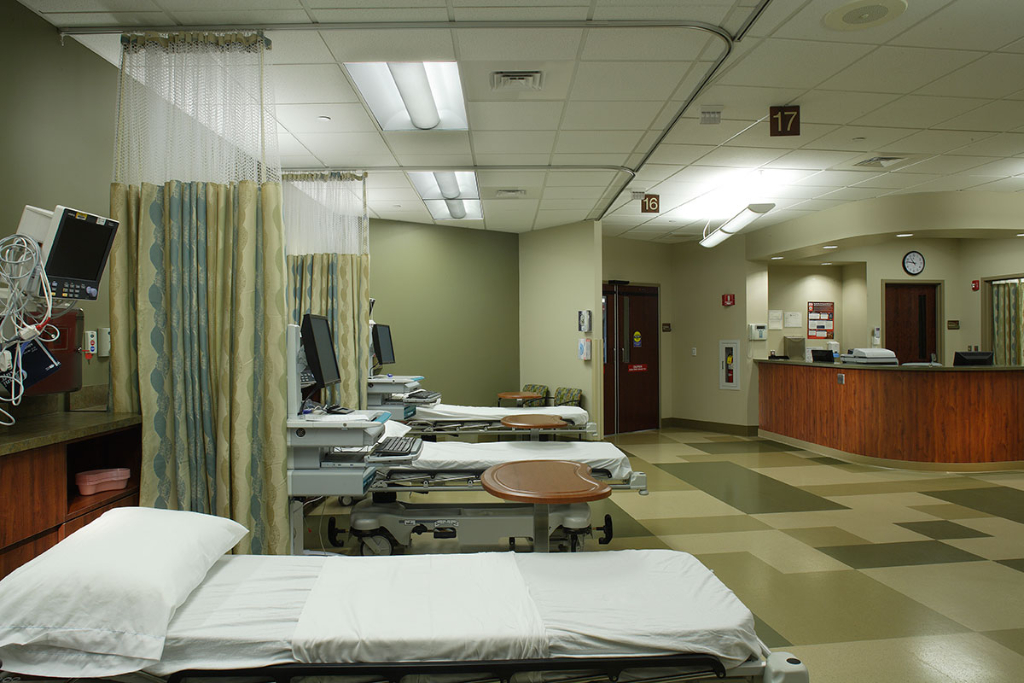hospital bed: (9, 505, 793, 672), (287, 411, 658, 484), (462, 453, 620, 518)
